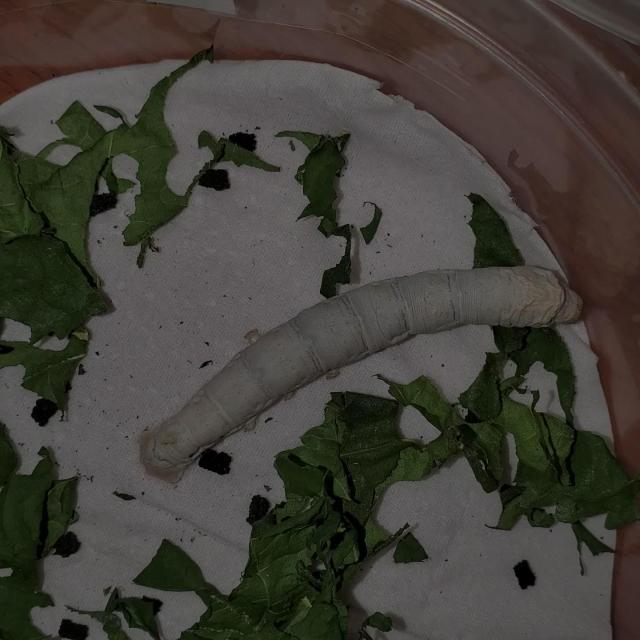Healthy: (128, 225, 599, 507)
